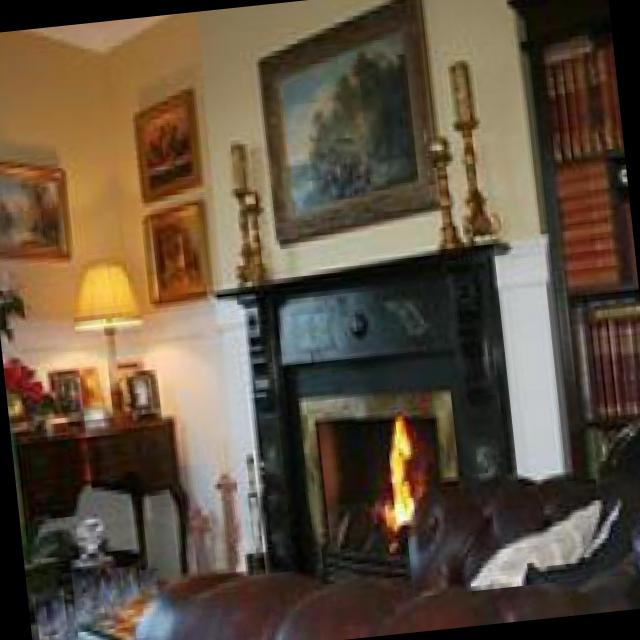fire: (361, 415, 423, 531)
